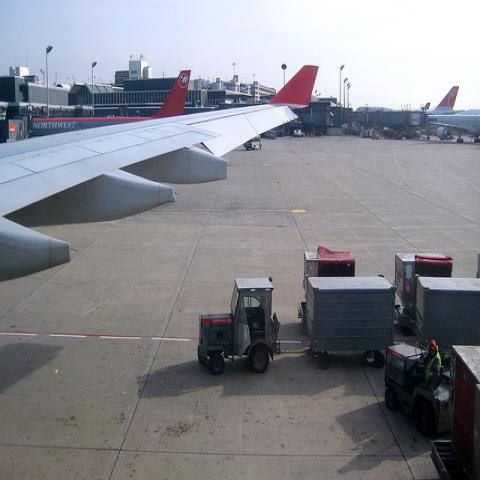truck: (301, 275, 396, 371), (196, 277, 282, 372), (294, 129, 303, 137)
